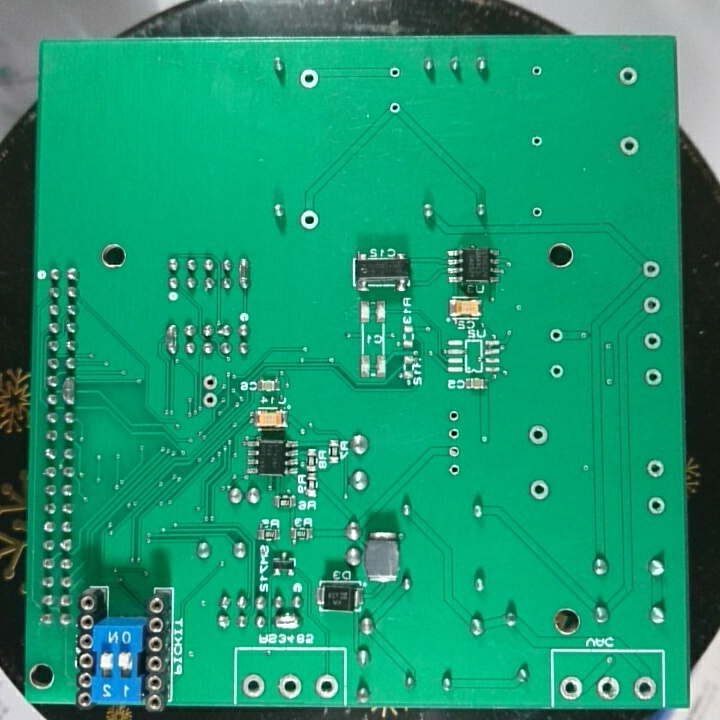F: (272, 672, 305, 701), (557, 675, 587, 703), (593, 673, 623, 701), (313, 671, 338, 703), (631, 672, 658, 701), (240, 672, 267, 700), (614, 63, 640, 89), (528, 475, 551, 503), (297, 66, 321, 92), (617, 133, 641, 159), (297, 206, 319, 232), (641, 258, 663, 282), (644, 456, 666, 480), (526, 423, 548, 446), (639, 293, 661, 315), (642, 365, 664, 387), (645, 493, 665, 515), (641, 330, 660, 352), (546, 324, 565, 346), (200, 389, 219, 410), (199, 373, 220, 391), (445, 441, 462, 461), (445, 460, 462, 479), (528, 63, 545, 80), (446, 425, 463, 442), (385, 64, 403, 80), (529, 132, 545, 150), (547, 362, 563, 380), (529, 203, 545, 220), (446, 407, 462, 423), (387, 98, 402, 115)
P: (59, 372, 79, 407), (271, 609, 304, 630), (236, 255, 252, 292), (164, 320, 178, 358)
